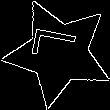L_E: (30, 33, 87, 73)
